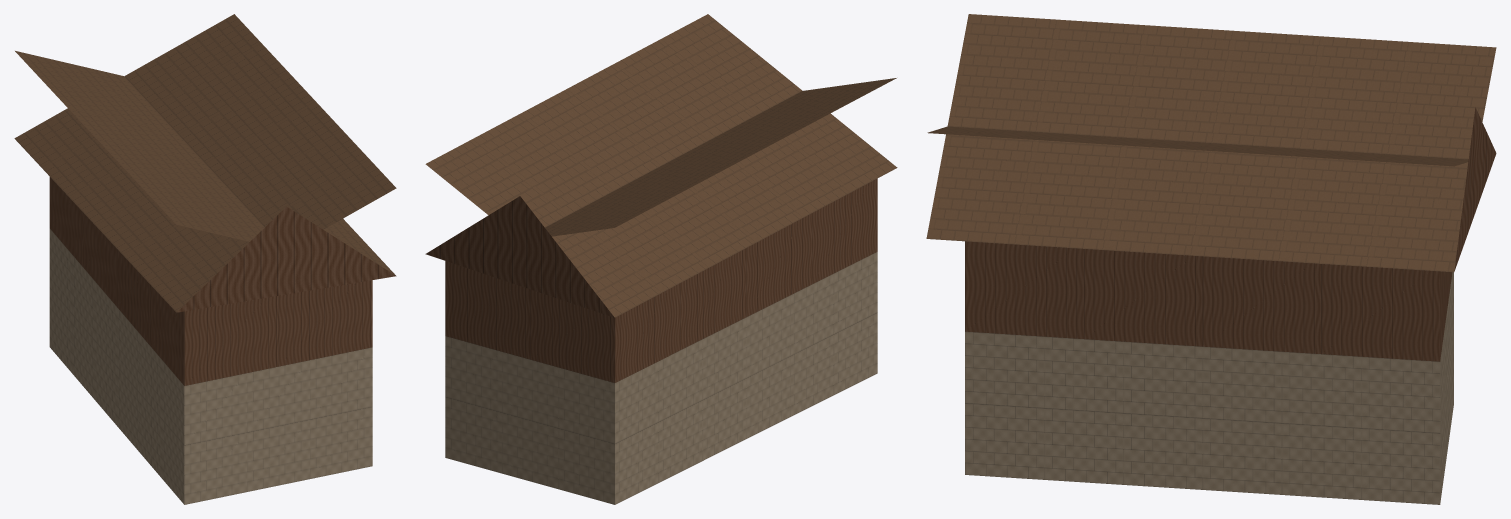
File: bld_c7_6_508.gltf
3 views of the same model, side by side, from view 1: azimuth 30°, elevation 25°; view 2: azimuth 150°, elevation 25°; view 3: azimuth 270°, elevation 25° (orthographic). The views are drawn at different scales.
Parts seen in each view (by area): view 1: bld_c7_6_508; view 2: bld_c7_6_508; view 3: bld_c7_6_508.
Boxes of the visible parts, box(x1,y1,x2,y2) form: bld_c7_6_508: box(14, 14, 396, 504); bld_c7_6_508: box(425, 14, 897, 504); bld_c7_6_508: box(926, 14, 1496, 504).
Bounding box in the file's own units: 10.73 × 11.37 × 16.95.
4 materials, 4 textured.
